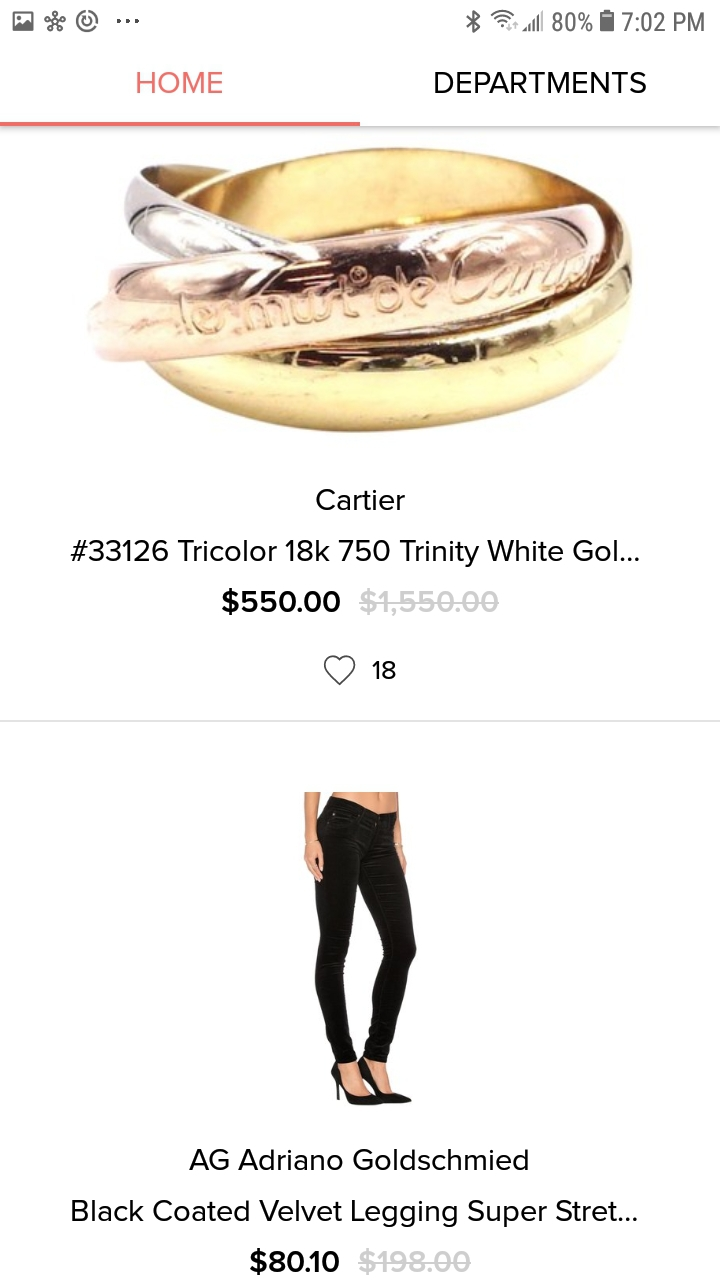Icon: (324, 655, 356, 686)
Image: (89, 149, 633, 433), (305, 792, 418, 1106)
Text: (73, 1199, 638, 1228), (71, 540, 640, 568), (222, 588, 500, 617), (189, 1148, 528, 1171), (250, 1247, 472, 1275), (435, 72, 647, 95), (316, 488, 406, 511), (137, 72, 224, 95), (372, 661, 396, 680)
UpperTaskBar: (1, 1, 720, 34)
